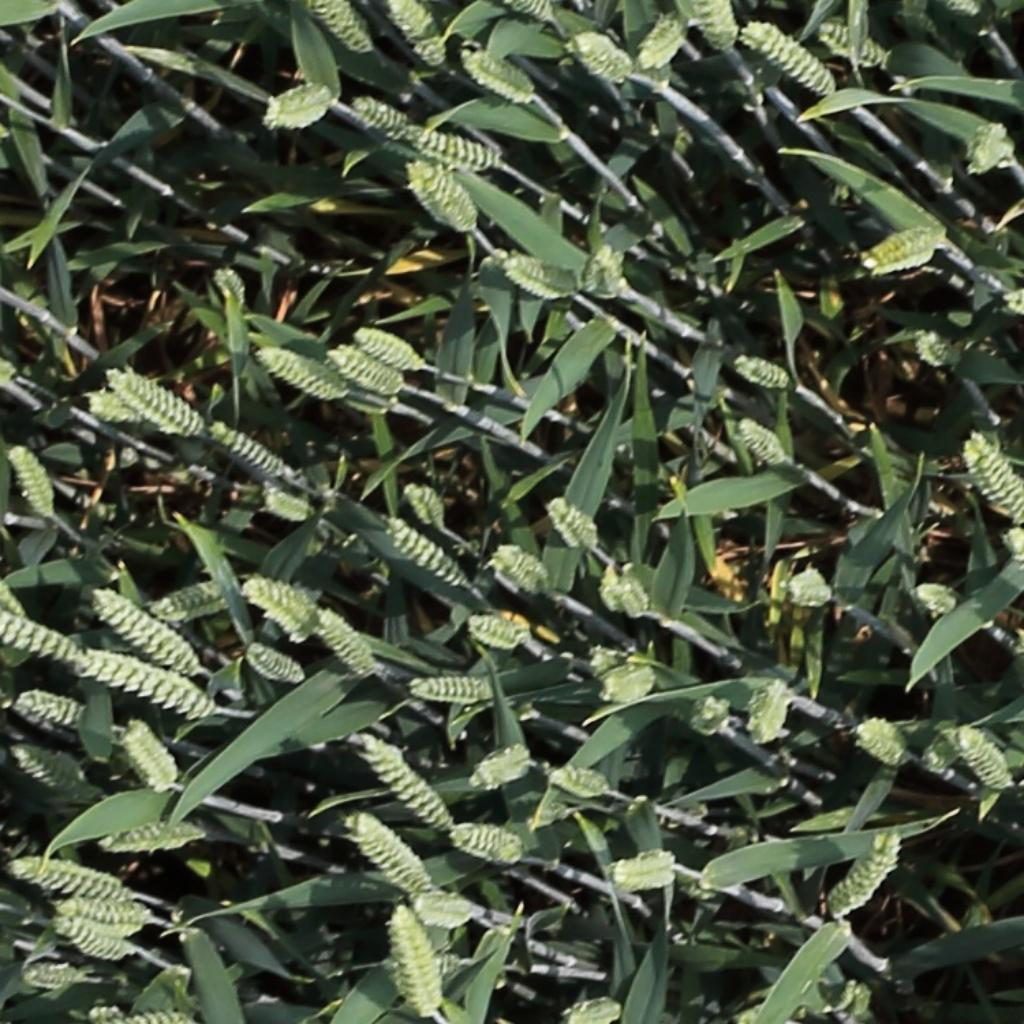0-0: (360, 715, 458, 835), (74, 629, 217, 700), (91, 573, 195, 656), (827, 805, 905, 898), (357, 824, 439, 905), (0, 576, 91, 648), (746, 20, 838, 91), (109, 368, 206, 435), (379, 113, 502, 163), (259, 337, 346, 406), (387, 521, 471, 592), (16, 854, 130, 906), (963, 417, 1024, 513), (396, 908, 445, 1023), (409, 150, 479, 226), (246, 77, 342, 128), (241, 572, 313, 639), (315, 589, 379, 662), (121, 713, 180, 791), (329, 335, 402, 398), (4, 425, 58, 509), (354, 316, 429, 375), (208, 426, 288, 481), (950, 724, 1014, 791), (502, 247, 575, 303), (389, 0, 449, 68), (60, 896, 157, 937), (64, 907, 141, 957), (917, 0, 1007, 41), (492, 529, 548, 594), (465, 49, 536, 98), (415, 879, 490, 925), (311, 0, 374, 53), (546, 481, 602, 539), (466, 602, 530, 652), (409, 664, 489, 704), (817, 20, 888, 65), (752, 671, 795, 745), (158, 581, 249, 615), (865, 230, 942, 269), (615, 850, 688, 890), (103, 824, 203, 853), (734, 345, 798, 389), (570, 32, 634, 76), (10, 744, 77, 785), (588, 228, 633, 289), (737, 419, 793, 468), (637, 15, 688, 68), (470, 747, 534, 788), (245, 642, 307, 682), (966, 117, 1017, 165), (402, 464, 447, 518), (857, 718, 910, 762), (456, 826, 530, 857), (213, 261, 251, 317), (616, 574, 656, 627), (701, 0, 740, 54), (788, 569, 839, 609), (599, 558, 634, 616), (98, 1004, 197, 1024), (354, 92, 412, 126), (19, 695, 87, 724), (0, 566, 31, 627), (24, 963, 87, 993), (695, 704, 741, 743), (548, 766, 613, 792), (994, 527, 1024, 582), (914, 318, 954, 359), (88, 393, 143, 420), (265, 491, 316, 520), (561, 1001, 621, 1021), (914, 584, 959, 610), (518, 0, 561, 23)
